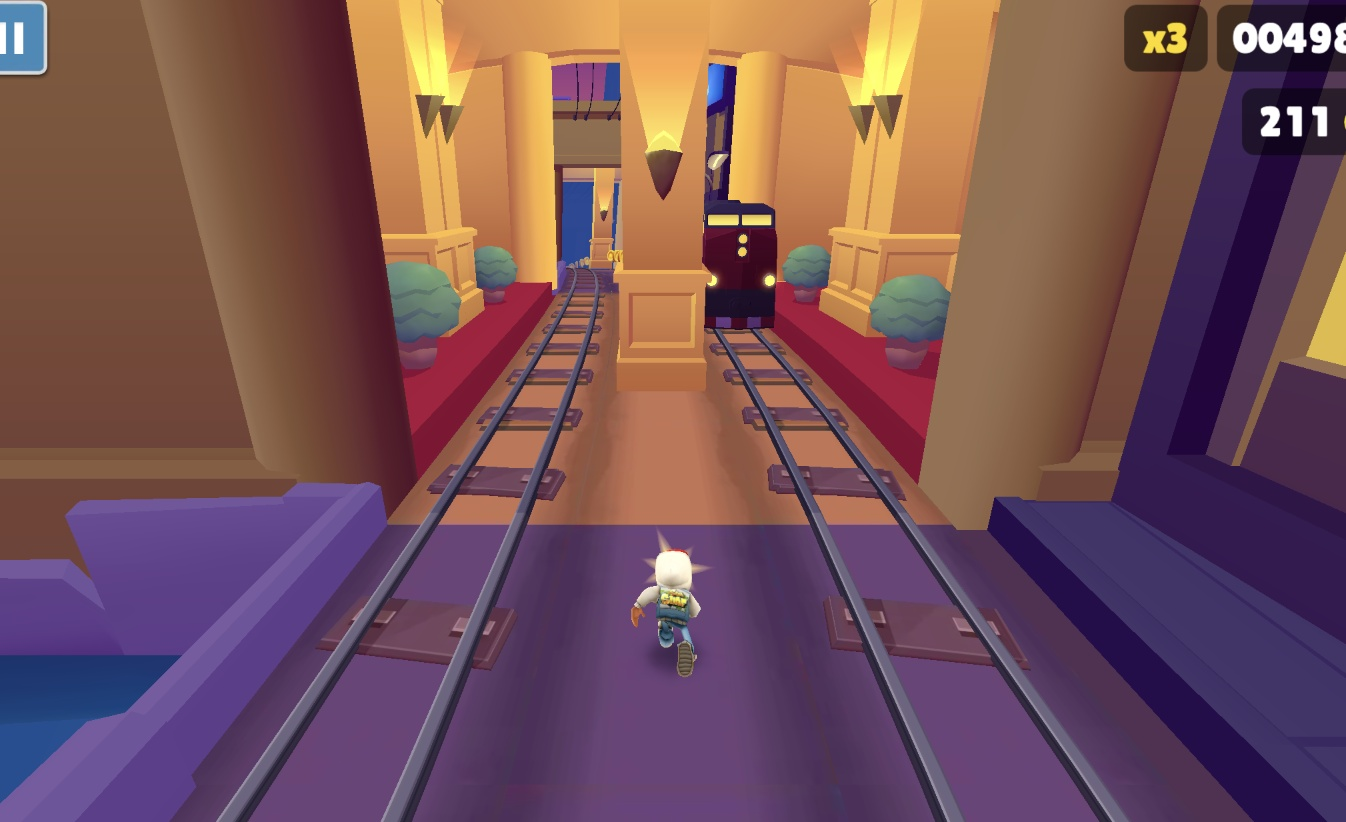pillar: (618, 0, 716, 390), (592, 170, 620, 268)
train: (704, 202, 778, 324)
